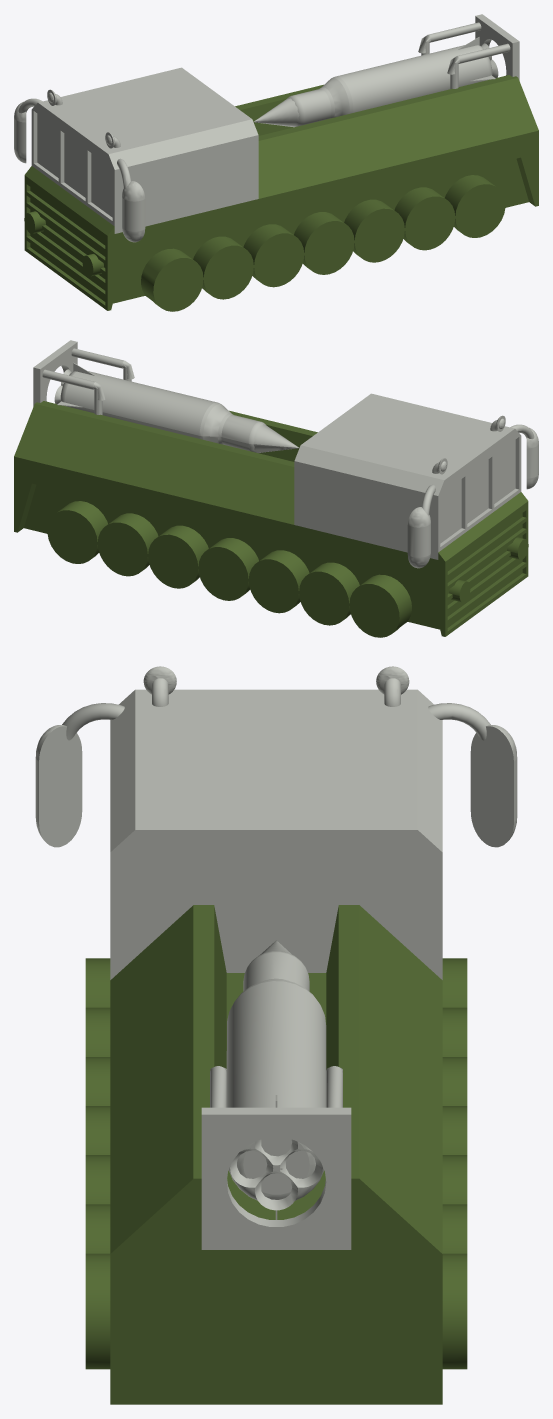
The model's file is launcher.obj.
3 renders of one model, top to bottom at view 1: azimuth 30°, elevation 25°; view 2: azimuth 150°, elevation 25°; view 3: azimuth 270°, elevation 25°, orthographic. The views are drawn at different scales.
Parts seen in each view (by area): view 1: mesh_5, mesh_3, mesh_4, mesh_11, mesh_2, mesh_0, mesh_6, mesh_10, mesh_1, mesh_9; view 2: mesh_5, mesh_3, mesh_4, mesh_11, mesh_2, mesh_0, mesh_6, mesh_9, mesh_1, mesh_10; view 3: mesh_5, mesh_11, mesh_3, mesh_4, mesh_0, mesh_2, mesh_9, mesh_10, mesh_1, mesh_12, mesh_13, mesh_7 (+1 smaller).
Part boxes in pixels (box(x1,y1,x2,y2)): mesh_5: box(31, 67, 258, 233); mesh_3: box(24, 130, 538, 310); mesh_4: box(141, 175, 505, 311); mesh_11: box(235, 75, 538, 198); mesh_2: box(287, 45, 492, 126); mesh_0: box(418, 14, 519, 88); mesh_6: box(24, 166, 114, 276); mesh_10: box(122, 181, 145, 242); mesh_1: box(254, 37, 498, 127); mesh_9: box(14, 101, 26, 163); mesh_5: box(294, 393, 521, 559); mesh_3: box(14, 456, 528, 636); mesh_4: box(47, 501, 411, 637); mesh_11: box(14, 401, 317, 524); mesh_2: box(60, 371, 265, 453); mesh_0: box(33, 340, 134, 414); mesh_6: box(438, 492, 528, 602); mesh_9: box(407, 507, 430, 568); mesh_1: box(54, 363, 298, 452); mesh_10: box(526, 427, 538, 489); mesh_5: box(110, 689, 442, 979); mesh_11: box(110, 905, 442, 1253); mesh_3: box(110, 1254, 442, 1404); mesh_4: box(85, 958, 467, 1369); mesh_0: box(201, 1066, 351, 1249); mesh_2: box(226, 951, 326, 1200); mesh_9: box(470, 725, 517, 847); mesh_10: box(35, 725, 82, 847); mesh_1: box(230, 940, 322, 1219); mesh_12: box(62, 703, 124, 740); mesh_13: box(428, 703, 490, 740); mesh_7: box(143, 666, 176, 706).
Size of the model in its own units: 6.15 by 2.35 by 2.9.
